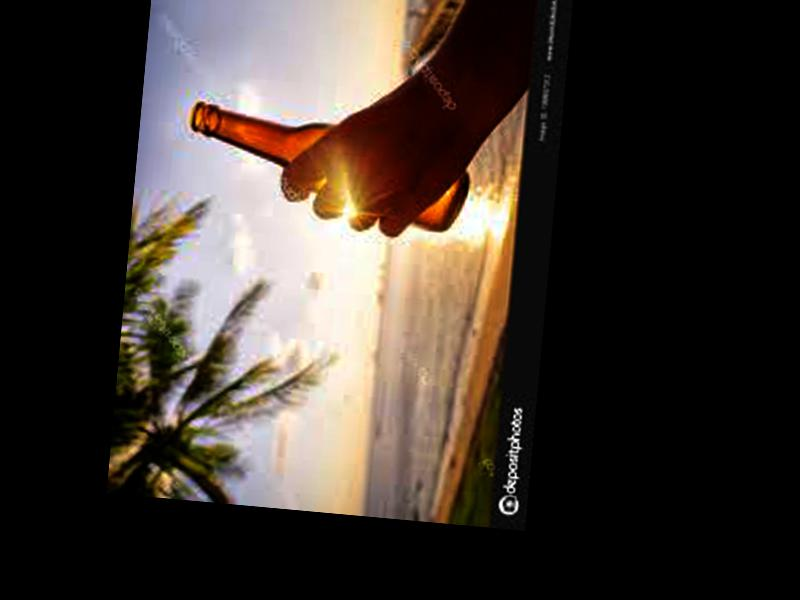Beer: (183, 98, 476, 232)
